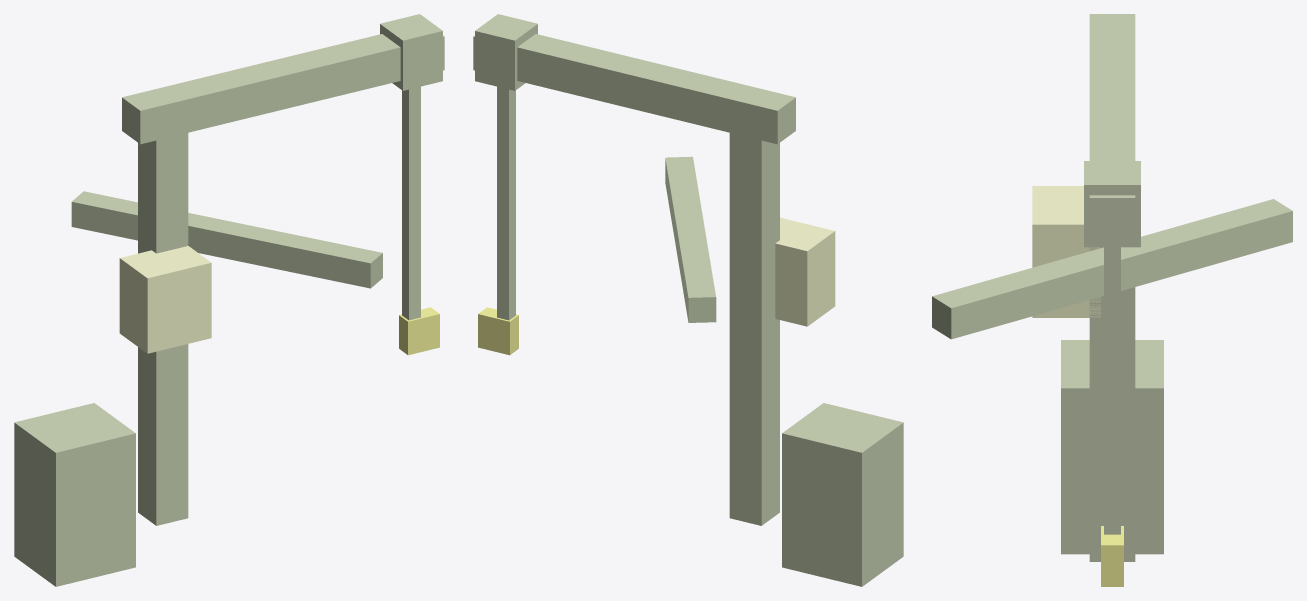
File: furniture_signal_cantilever_maintenance_hoist.glb
3 renders of one model, left to right at view 1: azimuth 30°, elevation 25°; view 2: azimuth 150°, elevation 25°; view 3: azimuth 270°, elevation 25°, orthographic. The views are drawn at different scales.
Visible parts, largest first — view 1: mast_clamp, post, boom, brace, winch_body, chain, pulley_head, hook; view 2: post, mast_clamp, boom, winch_body, brace, chain, pulley_head, hook; view 3: brace, mast_clamp, boom, post, chain, winch_body, pulley_head, hook.
Part boxes in pixels (left/top/right/bottom): mast_clamp: left=14, top=403, right=135, bottom=586; post: left=138, top=85, right=188, bottom=525; boom: left=122, top=34, right=444, bottom=144; brace: left=71, top=191, right=382, bottom=288; winch_body: left=119, top=246, right=211, bottom=353; chain: left=402, top=86, right=420, bottom=320; pulley_head: left=380, top=14, right=442, bottom=90; hook: left=399, top=307, right=439, bottom=355; post: left=729, top=85, right=779, bottom=525; mast_clamp: left=782, top=403, right=903, bottom=586; boom: left=473, top=34, right=795, bottom=144; winch_body: left=775, top=217, right=835, bottom=326; brace: left=665, top=156, right=716, bottom=322; chain: left=497, top=86, right=515, bottom=320; pulley_head: left=475, top=14, right=537, bottom=90; hook: left=478, top=307, right=518, bottom=355; brace: left=932, top=199, right=1292, bottom=339; mast_clamp: left=1061, top=340, right=1163, bottom=554; boom: left=1089, top=14, right=1135, bottom=239; post: left=1089, top=23, right=1135, bottom=561; chain: left=1104, top=247, right=1120, bottom=534; winch_body: left=1032, top=186, right=1100, bottom=317; pulley_head: left=1084, top=161, right=1140, bottom=247; hook: left=1101, top=526, right=1123, bottom=586.
Bounding box in the file's own units: 1 × 1.08 × 0.6305.
